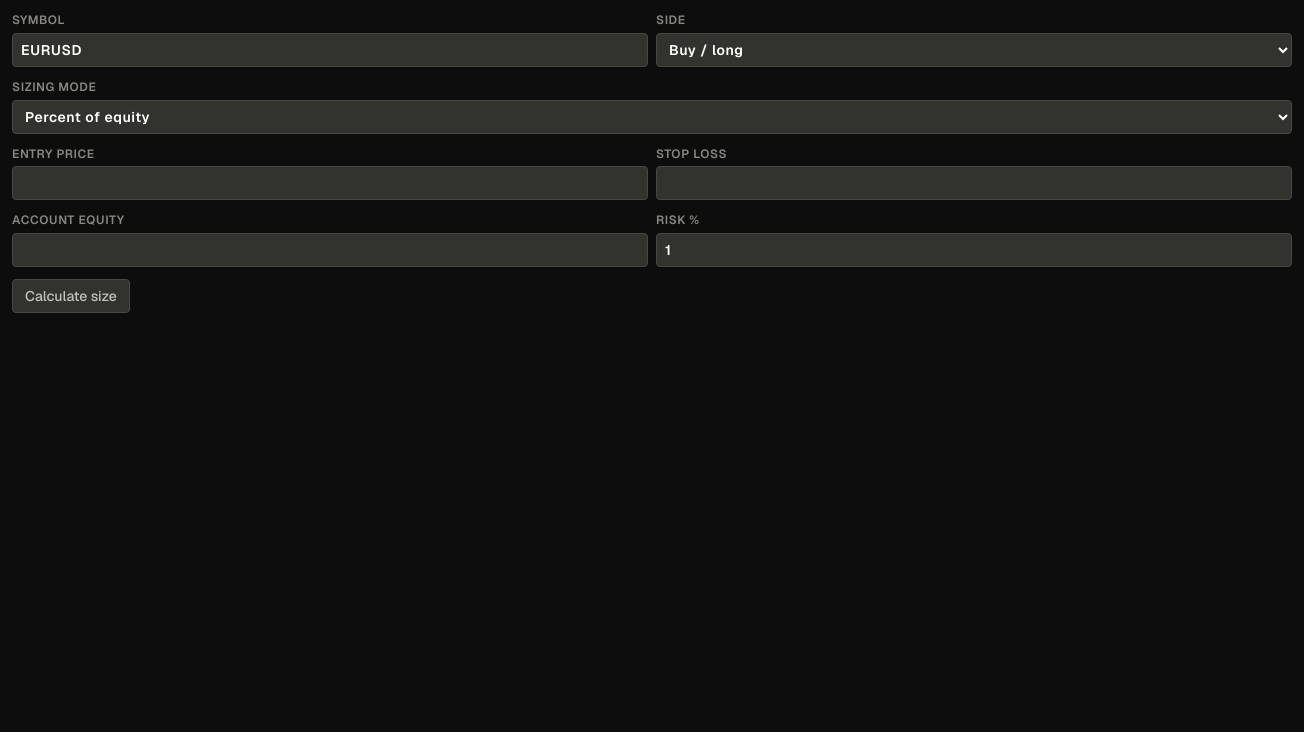
SizingCalculator › reports a failed request instead of showing a stale size
Click the button "Calculate size" at {"x": 71, "y": 296}, box 12,279 -> 130,313
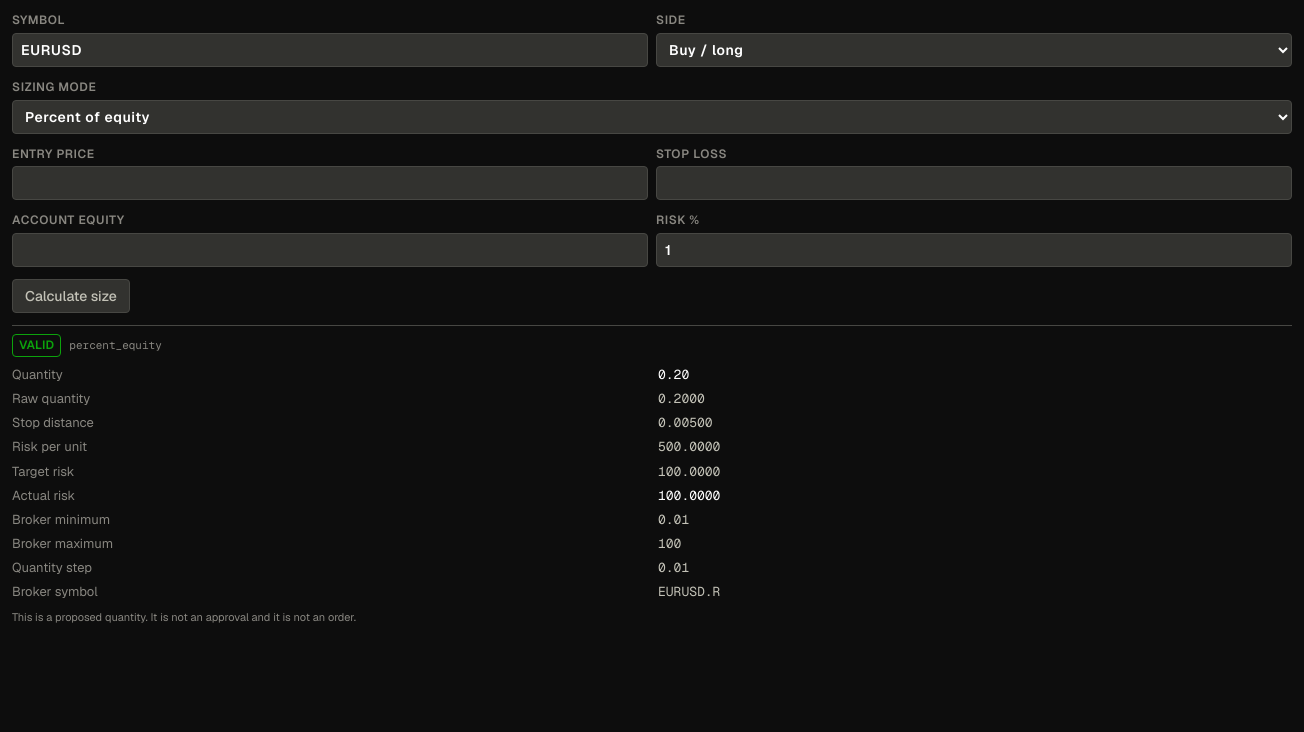
expect the text "VALID" is shown: met, box 12,334 -> 61,357
Click the button "Calculate size" at {"x": 71, "y": 296}, box 12,279 -> 130,313
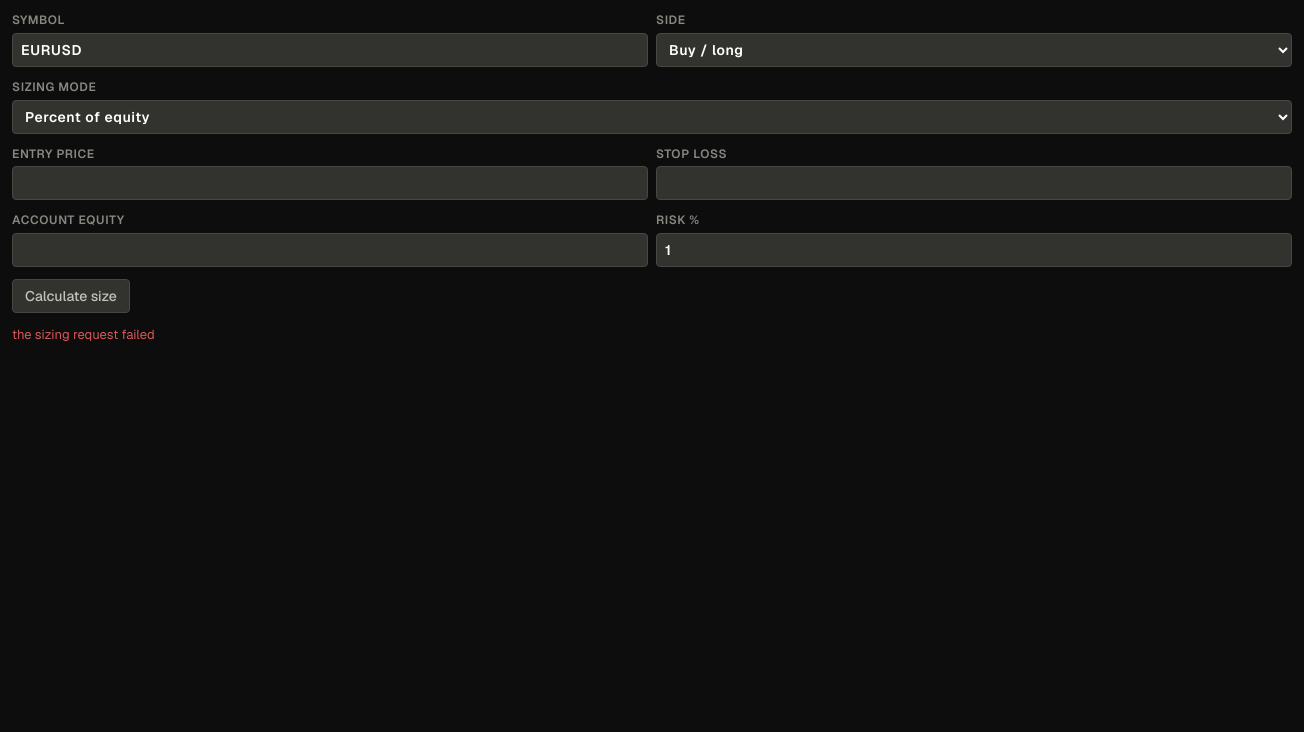
expect the message "the sizing request failed" is shown: met, box 12,326 -> 155,343
expect the text "VALID" is gone: met
